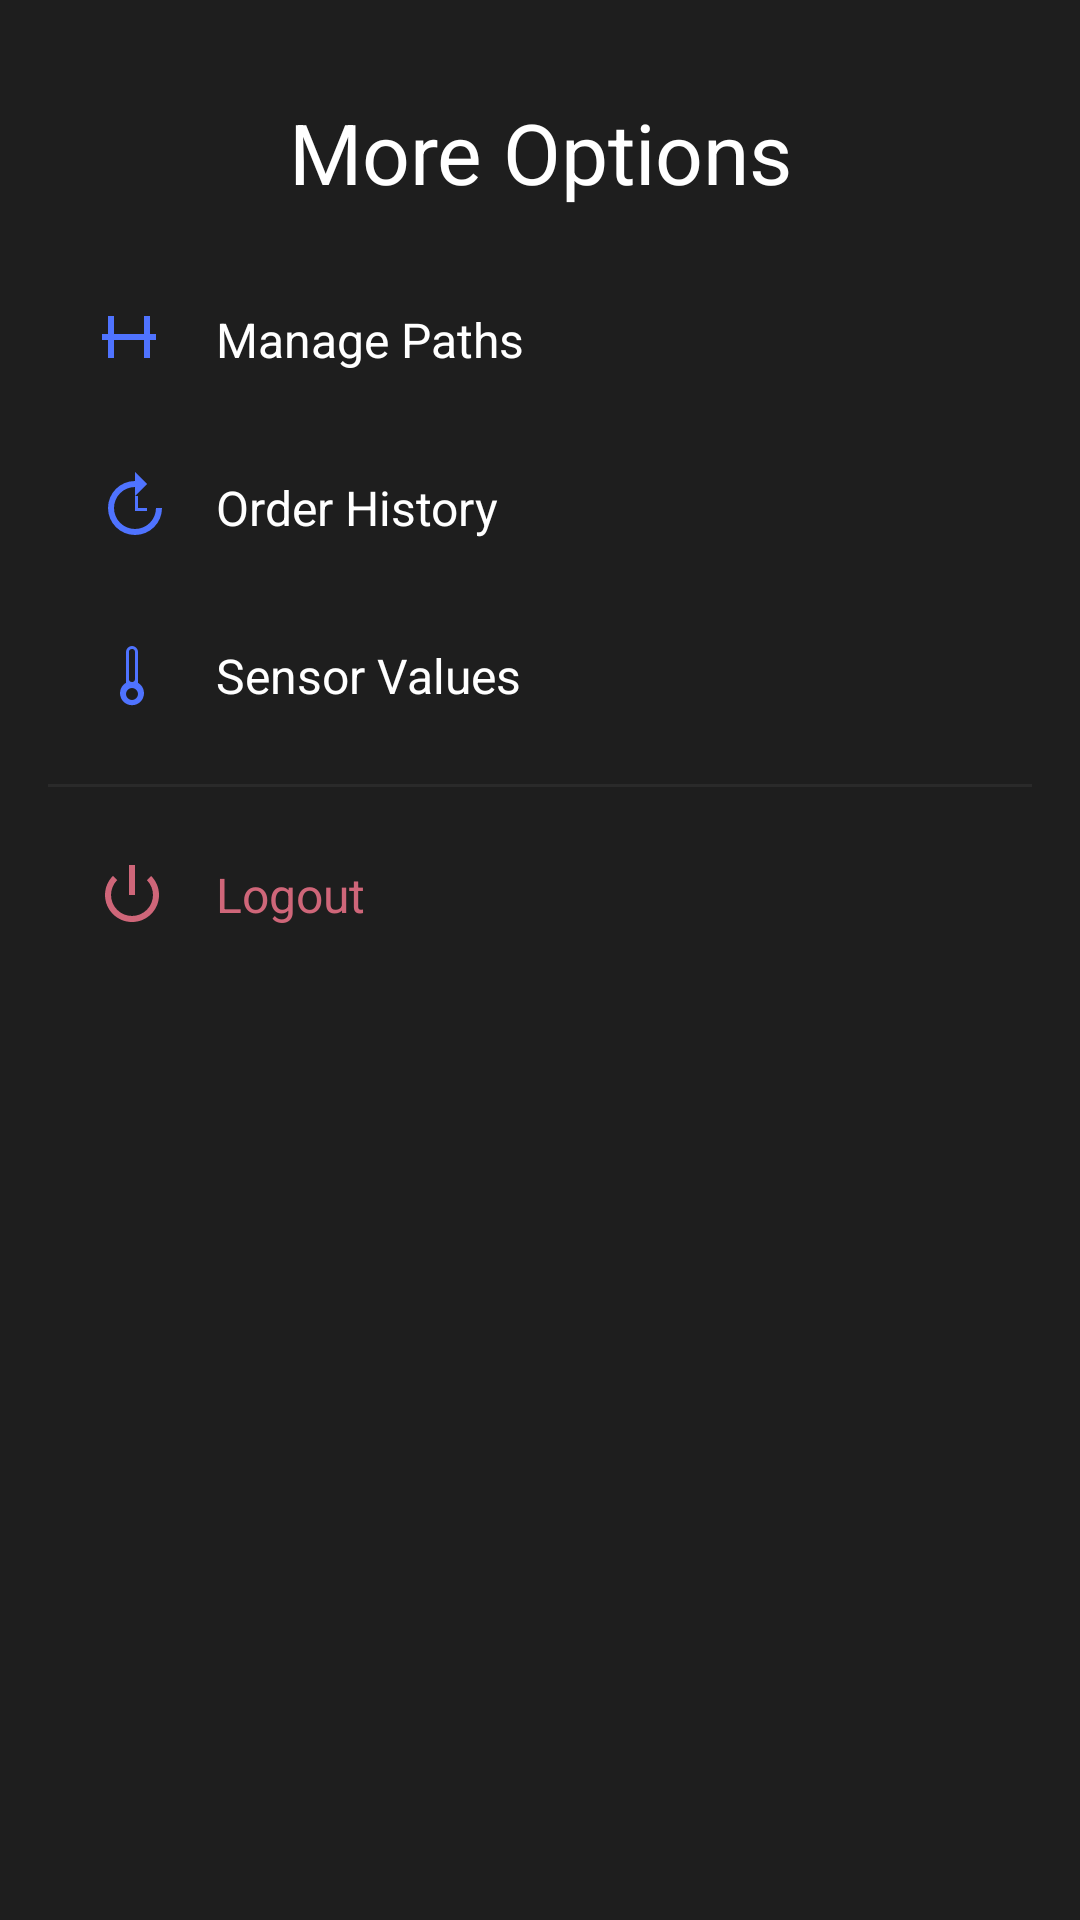

Named icons in this screenshot (1080 x 1920) and their bounding boxes, [x1, y1, x2, y2]:
lock power off: [105, 865, 159, 922]
